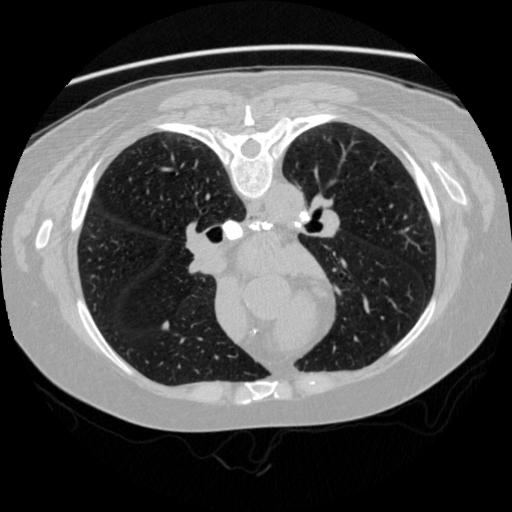nodule: (159, 321, 172, 334)
